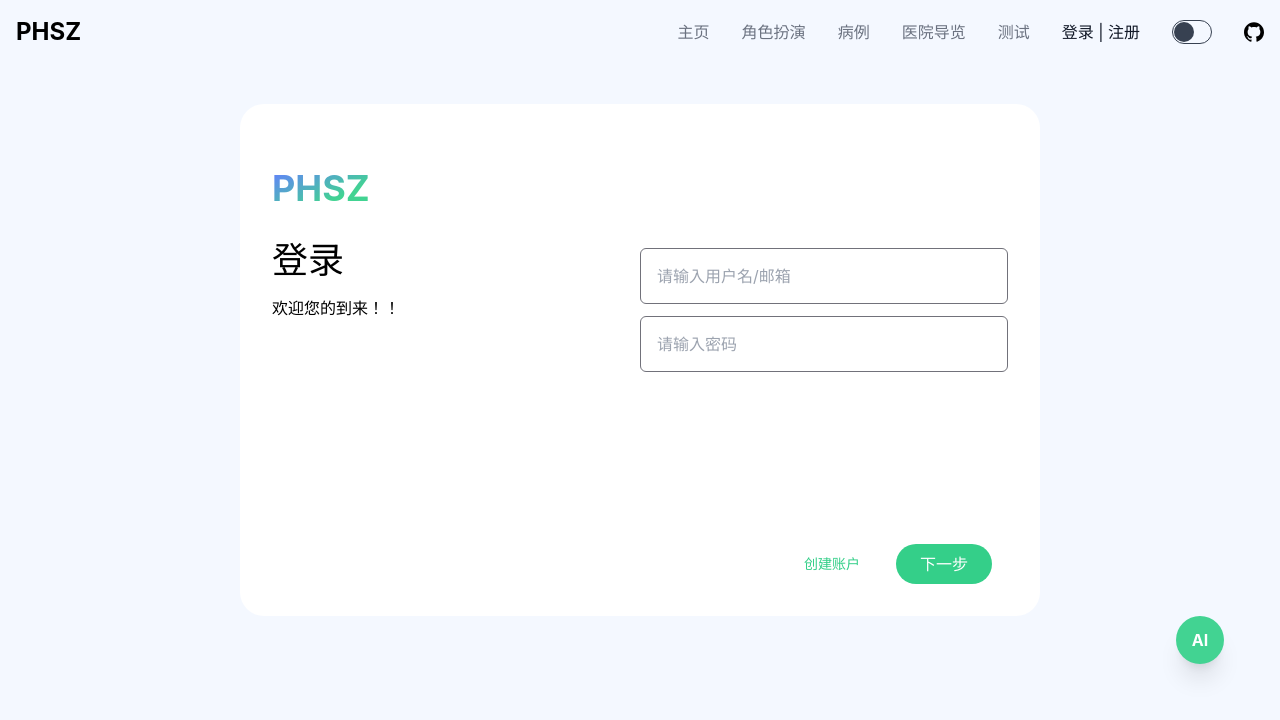
Scenario: Login Test › No Username
Expected: the link "登录 | 注册" is shown, [1062,22,1140,42]
In the password field with placeholder "请输入密码": [824, 344] box [640,316,1008,372], type "admin"
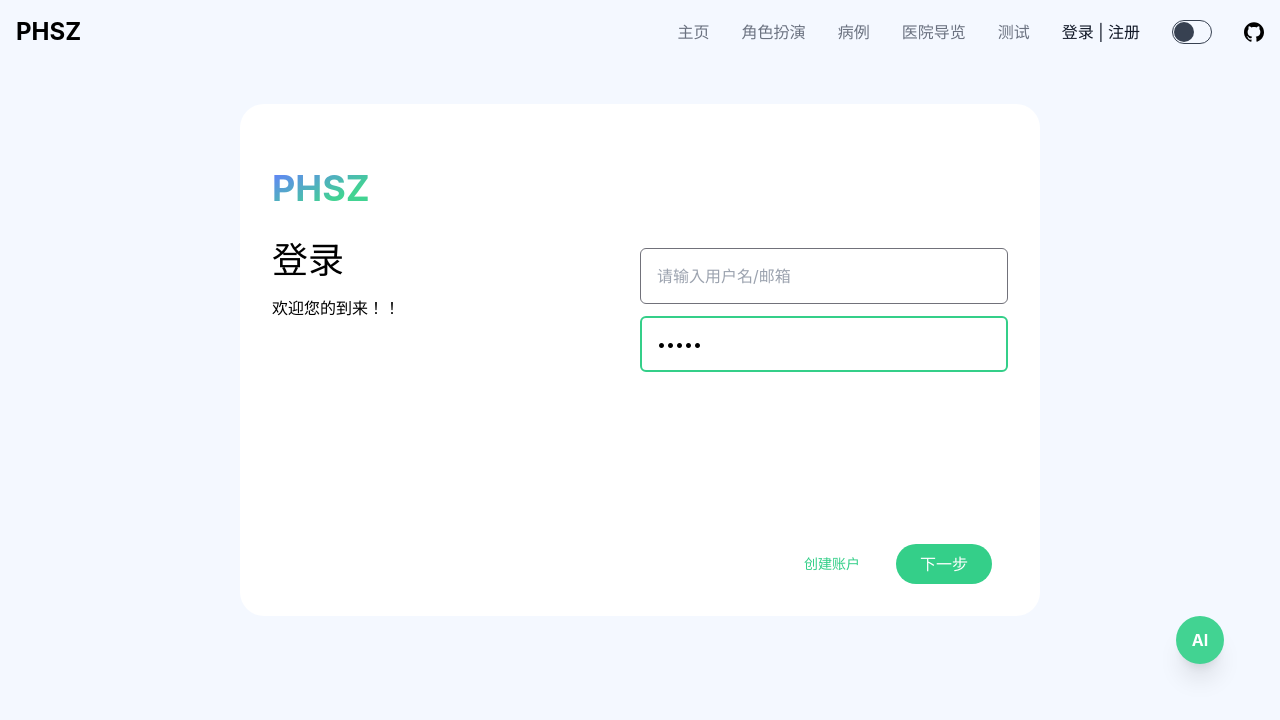
Click the button "下一步": [944, 564] box [896,544,992,584]
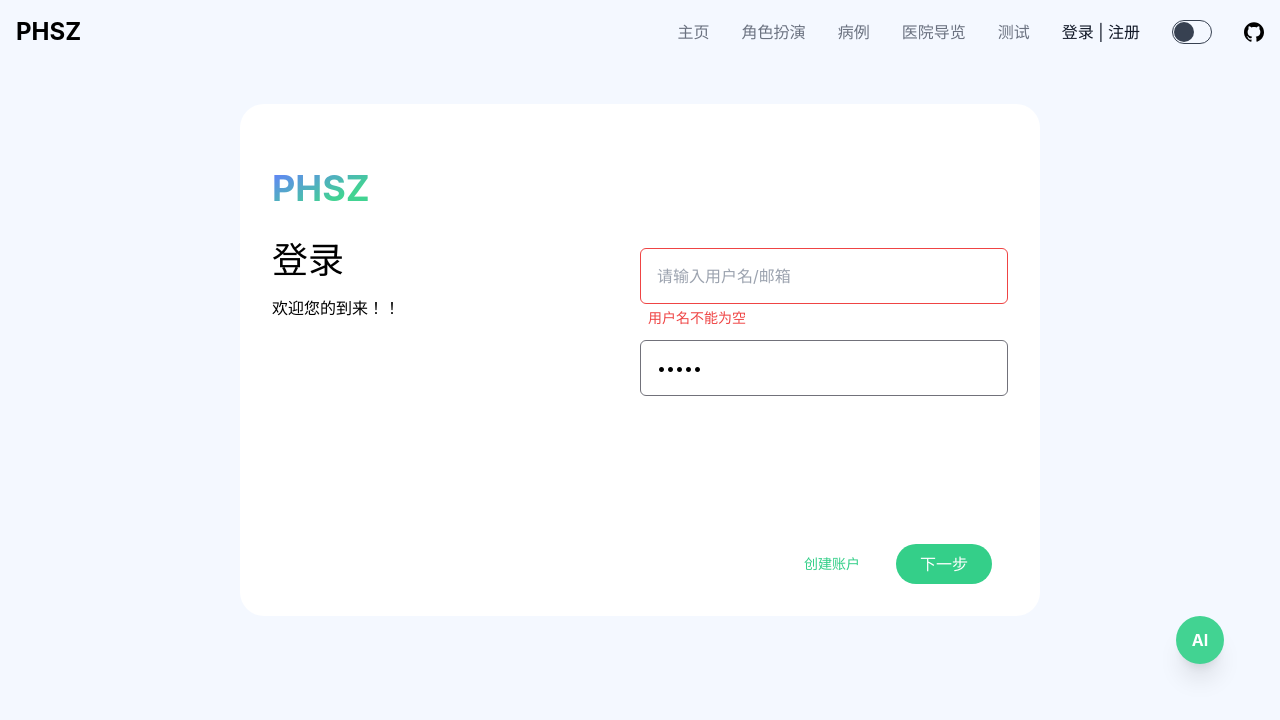
Result: the text "用户名不能为空" is shown at [648,309,746,326]
